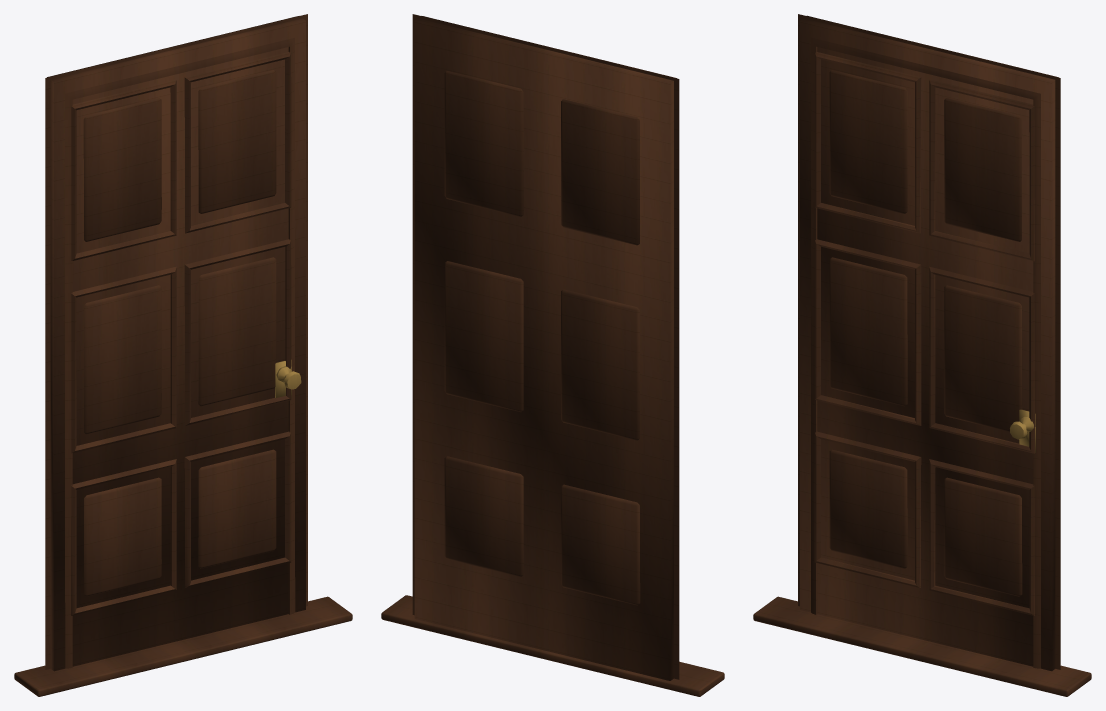
The model's file is porta-biblioteca-medio.glb.
3 views of the same model, side by side, from view 1: azimuth 30°, elevation 25°; view 2: azimuth 150°, elevation 25°; view 3: azimuth 330°, elevation 25° (orthographic).
Parts seen in each view (by area): view 1: folha, porta-biblioteca-batente, porta-biblioteca-soleira; view 2: folha, porta-biblioteca-batente, porta-biblioteca-soleira; view 3: folha, porta-biblioteca-batente, porta-biblioteca-soleira.
Boxes of the visible parts, <box> form: folha: <box>47,16,305,671</box>; porta-biblioteca-batente: <box>45,14,307,669</box>; porta-biblioteca-soleira: <box>14,596,352,696</box>; folha: <box>414,16,676,680</box>; porta-biblioteca-batente: <box>412,14,679,679</box>; porta-biblioteca-soleira: <box>381,595,724,696</box>; folha: <box>800,15,1058,671</box>; porta-biblioteca-batente: <box>798,14,1060,669</box>; porta-biblioteca-soleira: <box>753,596,1091,696</box>.
Bounding box in the file's own units: 1.32 × 2.4 × 0.18.
Materials: 2 (2 with a texture image).
